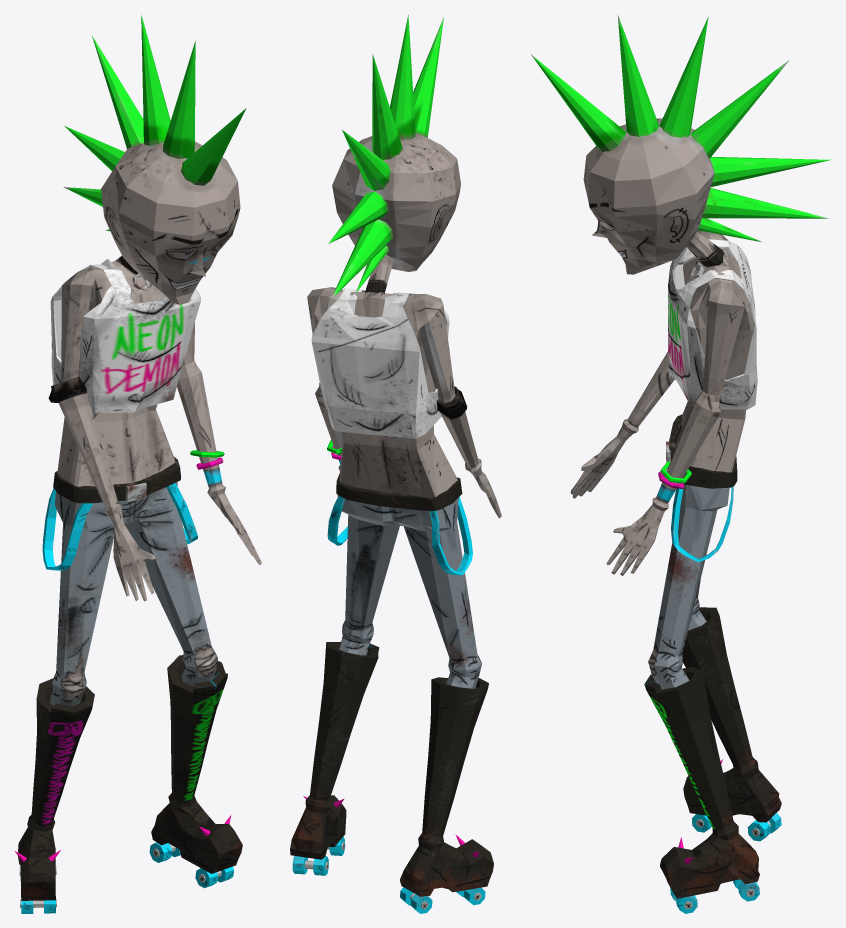
Rendered from punkAnimation_000049.obj.
3 renders of one model, left to right at view 1: azimuth 30°, elevation 25°; view 2: azimuth 150°, elevation 25°; view 3: azimuth 270°, elevation 25°, orthographic. The views are drawn at different scales.
Parts seen in each view (by area): view 1: Cube.004_Cube.003; view 2: Cube.004_Cube.003; view 3: Cube.004_Cube.003.
Part boxes in pixels (box(x1,y1,x2,y2)): Cube.004_Cube.003: box(15, 15, 261, 913); Cube.004_Cube.003: box(290, 15, 501, 913); Cube.004_Cube.003: box(531, 14, 830, 913).
Bounding box in the file's own units: 1.83 × 7.45 × 2.35.
